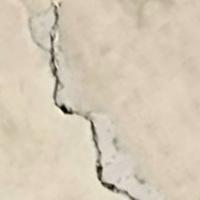crack: (37, 3, 141, 199)
